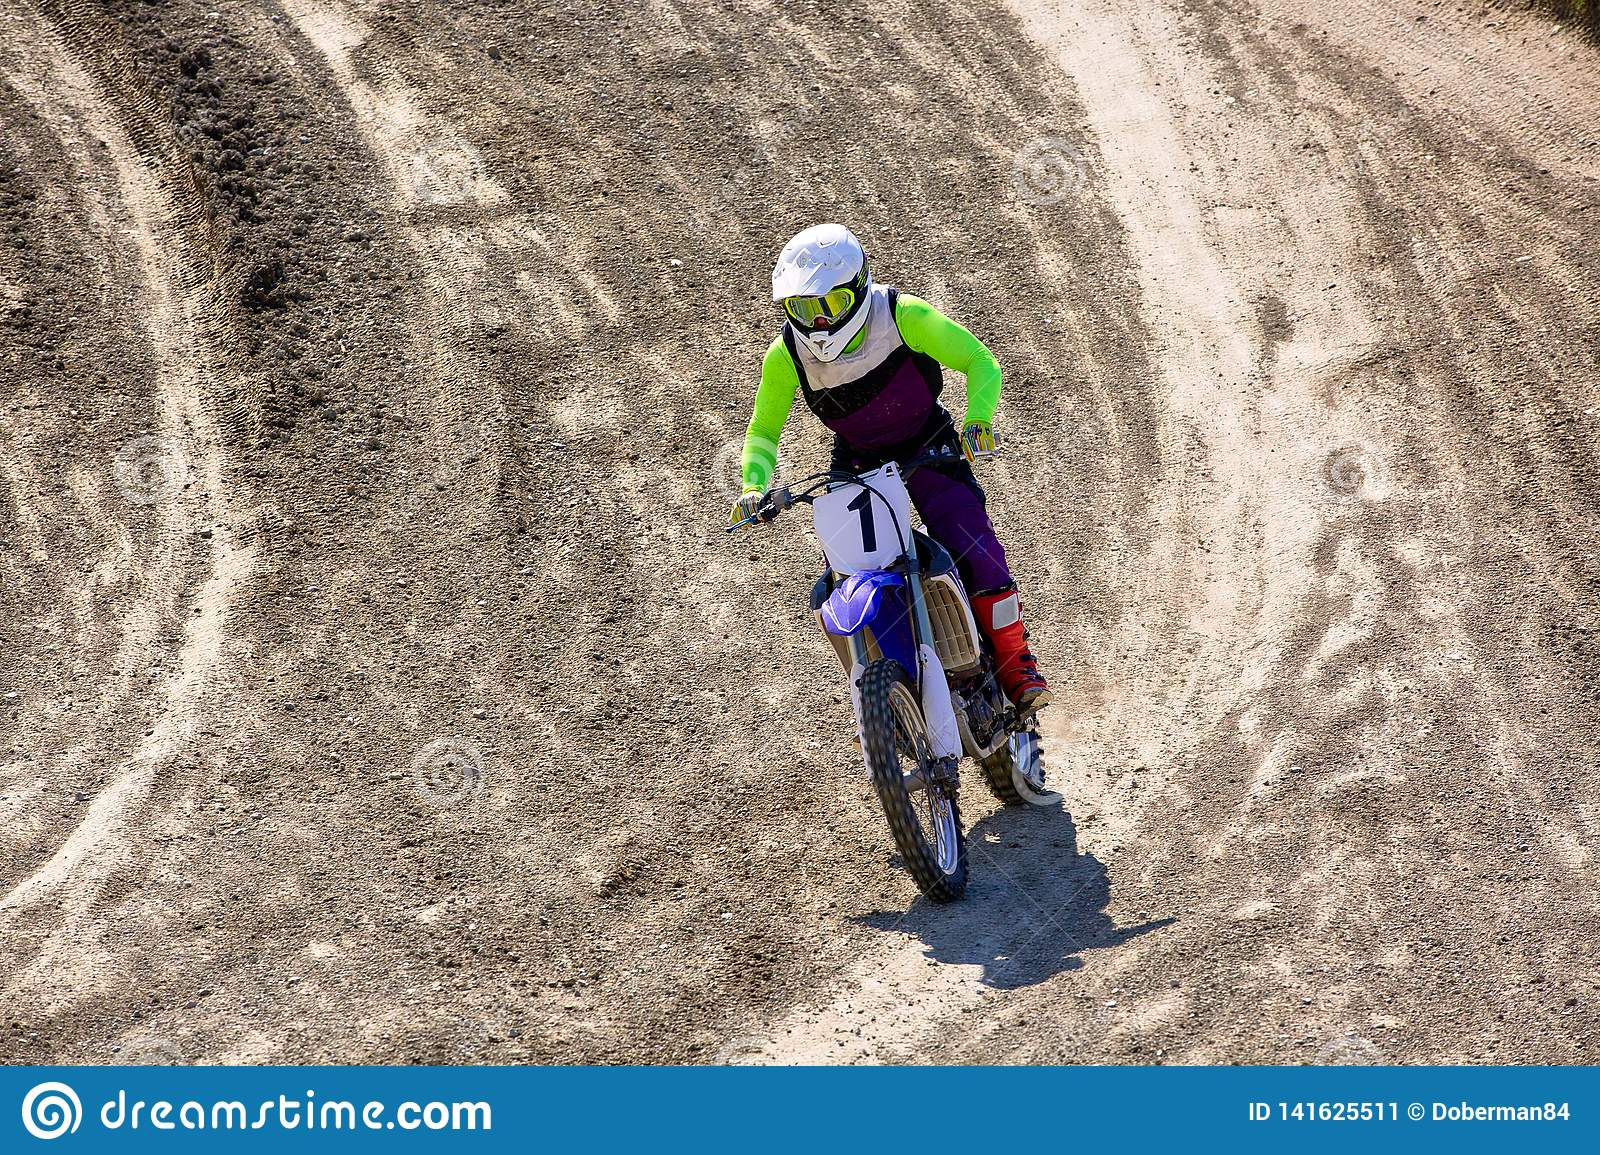helmet: (764, 224, 882, 365)
